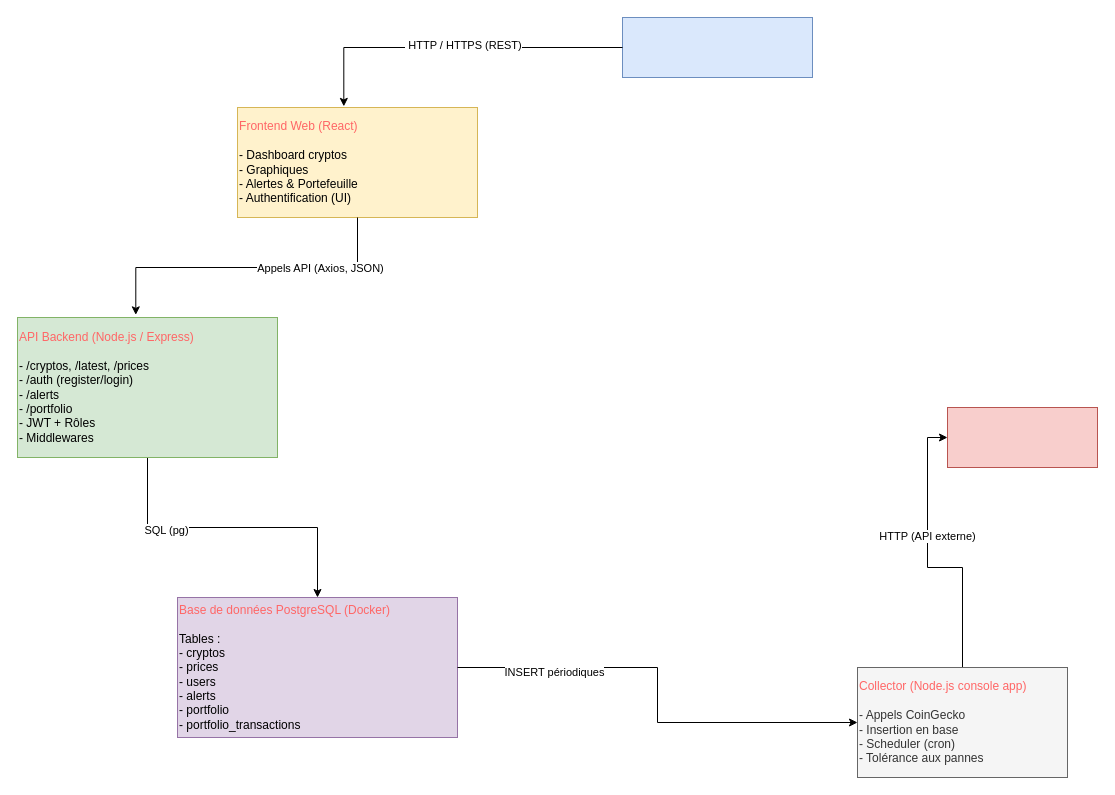
This 1115x795 diagram has some shape labels left out. The shapes that lost their labels are listed below. From the top down, each one's centre as x and y in pixels, then its label:
At point (717, 47): "Utilisateur (Navigateur Web/client)".
At point (1022, 437): "API CoinGecko (Source de données)".
